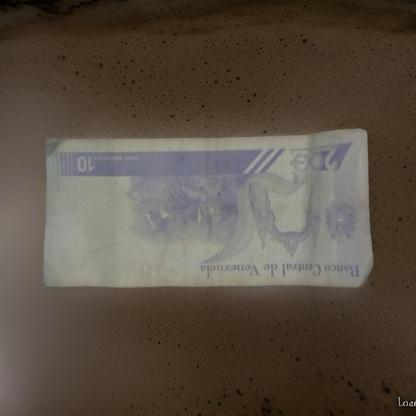ten-back-vef: (43, 130, 374, 287)
